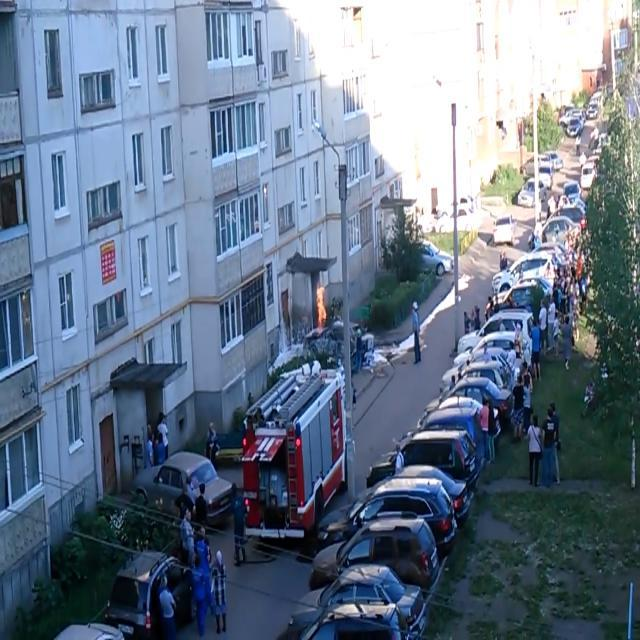Fire: (314, 270, 328, 332)
